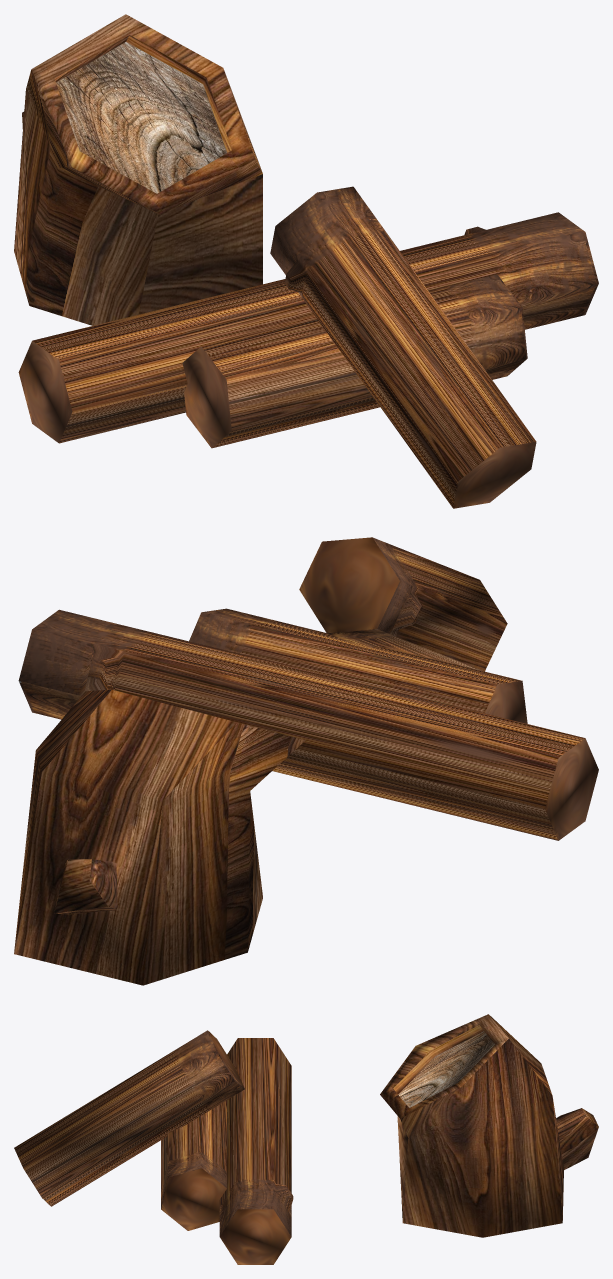
File: Logs and stumps.fbx
3 views of the same model, one above another, from view 1: azimuth 30°, elevation 25°; view 2: azimuth 150°, elevation 25°; view 3: azimuth 270°, elevation 25° (orthographic). The views are drawn at different scales.
Parts seen in each view (by area): view 1: Cylinder, Cube; view 2: Cylinder, Cube; view 3: Cylinder, Cube.
Part boxes in pixels (left/top/right/bottom): Cylinder: left=18, top=186, right=598, bottom=508; Cube: left=14, top=14, right=262, bottom=325; Cylinder: left=18, top=537, right=598, bottom=840; Cube: left=14, top=689, right=305, bottom=985; Cylinder: left=14, top=1030, right=293, bottom=1264; Cube: left=380, top=1014, right=598, bottom=1237.
Bounding box in the file's own units: 725 × 328 × 1046.
